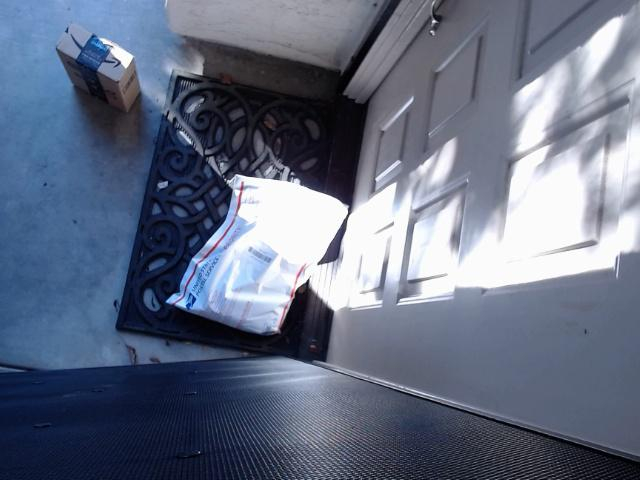box: (55, 22, 140, 112)
plastic_bag: (166, 173, 349, 334)
